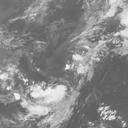cyclone: (20, 38, 98, 117)
